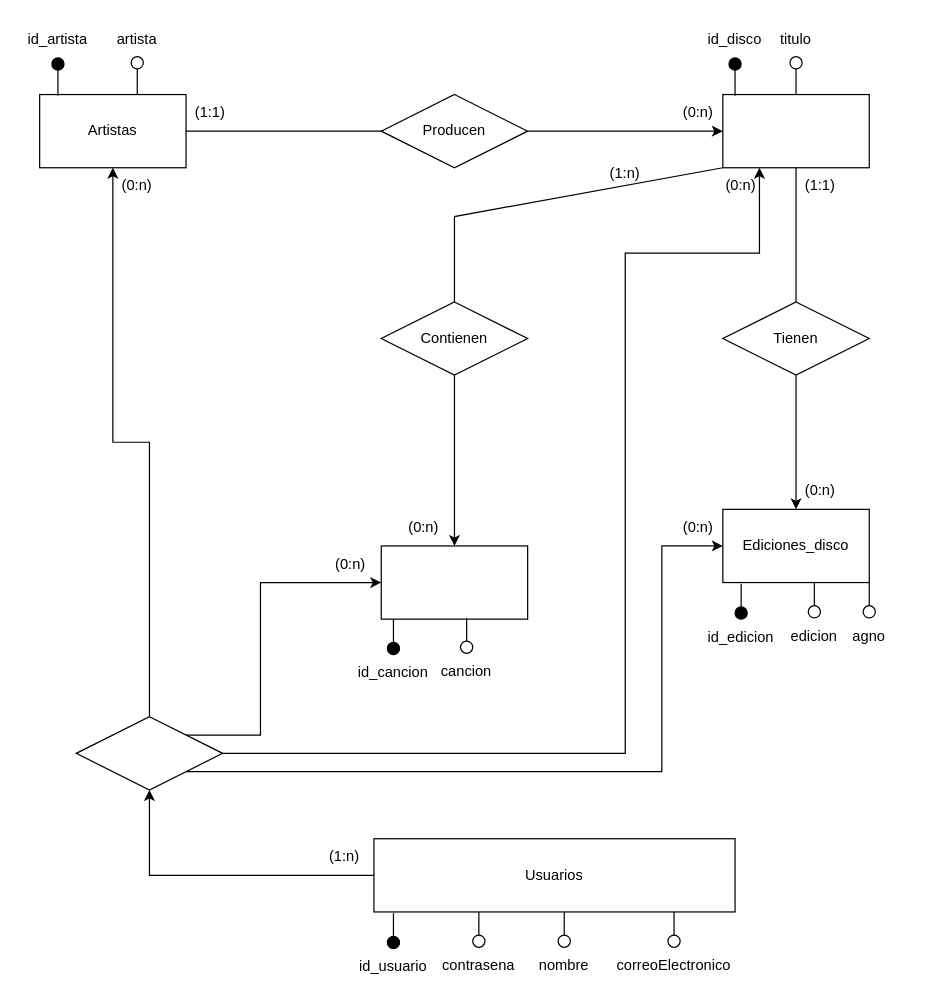
The diagram is 926 pixels wide and 1005 high, and some of its shapes have lost their labels. Each missing label, with the box of its shape:
Canciones: (380, 545, 528, 619)
Discos: (722, 93, 869, 168)
Introducen: (75, 716, 223, 790)
